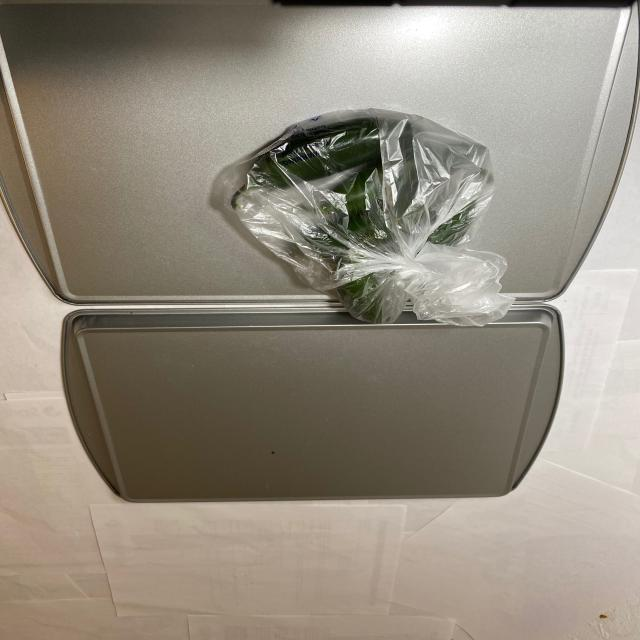chilli: (228, 124, 486, 325)
